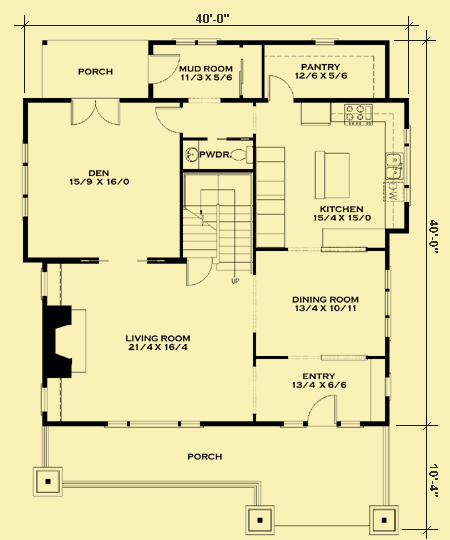door: (65, 93, 122, 129), (306, 389, 341, 432), (146, 52, 185, 85), (149, 104, 186, 136), (183, 254, 214, 288), (266, 73, 299, 102)
kitchen bar: (309, 146, 352, 200)
large sink: (227, 145, 252, 165)
small sink: (182, 137, 202, 169)
stairs: (184, 169, 253, 274)
twin sink: (386, 152, 405, 182)
windows: (103, 417, 209, 432), (18, 138, 34, 222), (380, 266, 395, 344), (37, 380, 51, 417), (309, 34, 342, 49), (170, 38, 219, 48), (37, 268, 49, 301), (278, 417, 305, 431), (337, 420, 366, 429)
